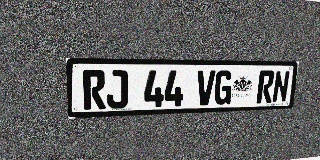4: (144, 70, 165, 108), (164, 70, 184, 107)
G: (214, 70, 233, 105)
J: (106, 70, 128, 109)
N: (272, 71, 290, 103)
R: (83, 70, 106, 110), (256, 71, 275, 103)
V: (196, 70, 216, 106)
